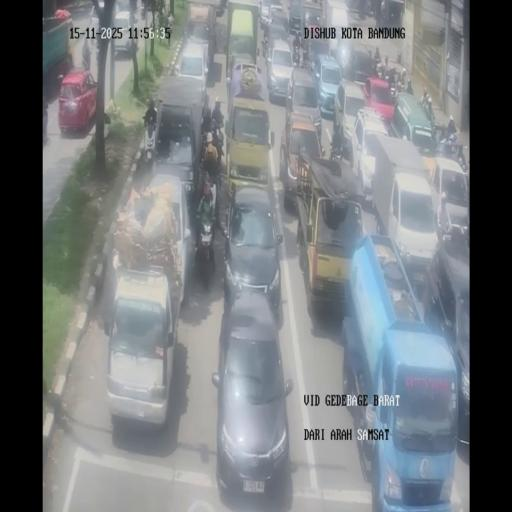car: (212, 292, 292, 503), (104, 268, 180, 430), (222, 185, 284, 320), (138, 173, 194, 300), (223, 95, 273, 204), (350, 108, 392, 204), (430, 156, 470, 238), (391, 93, 437, 156), (285, 66, 322, 138), (58, 68, 98, 134), (93, 6, 137, 58), (174, 39, 210, 98), (265, 38, 295, 103), (348, 46, 376, 85), (267, 8, 289, 40), (304, 10, 321, 33), (116, 0, 134, 12)
motorcycle: (193, 201, 217, 286), (142, 112, 158, 164), (438, 125, 458, 156), (335, 42, 353, 76), (211, 122, 225, 160), (455, 141, 469, 174), (300, 48, 316, 74), (201, 105, 213, 136), (388, 77, 402, 103), (164, 11, 174, 45), (329, 138, 343, 161), (292, 41, 301, 67), (81, 48, 91, 71), (42, 106, 48, 143), (376, 59, 386, 79), (261, 34, 269, 58), (95, 44, 102, 71), (402, 81, 414, 96), (128, 9, 137, 26), (140, 3, 146, 20)
truck: (343, 238, 457, 506), (294, 150, 365, 320), (152, 80, 208, 201), (42, 12, 72, 98), (226, 0, 260, 73), (323, 0, 350, 46), (288, 0, 304, 34)
